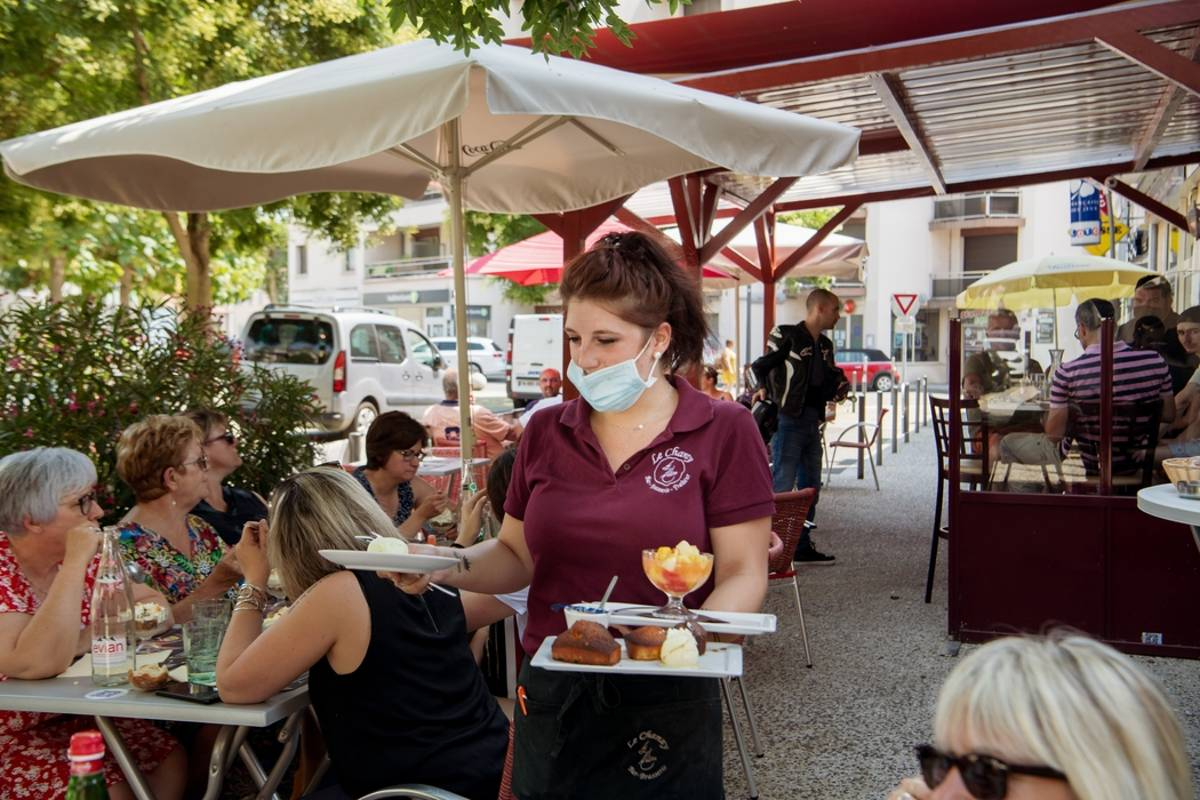with_incorrect_mask: (556, 310, 676, 416)
without_mask: (155, 441, 212, 505), (384, 433, 429, 485), (215, 422, 253, 466), (822, 295, 845, 334)
